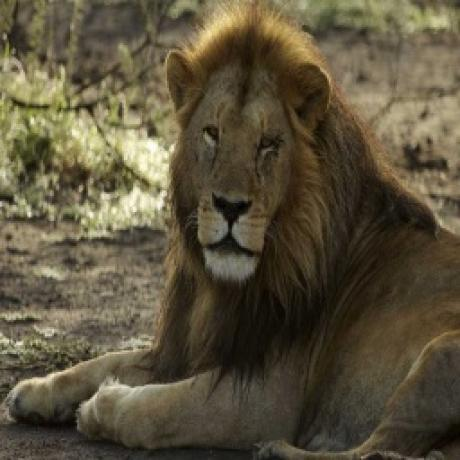Lion: (5, 7, 460, 458)
